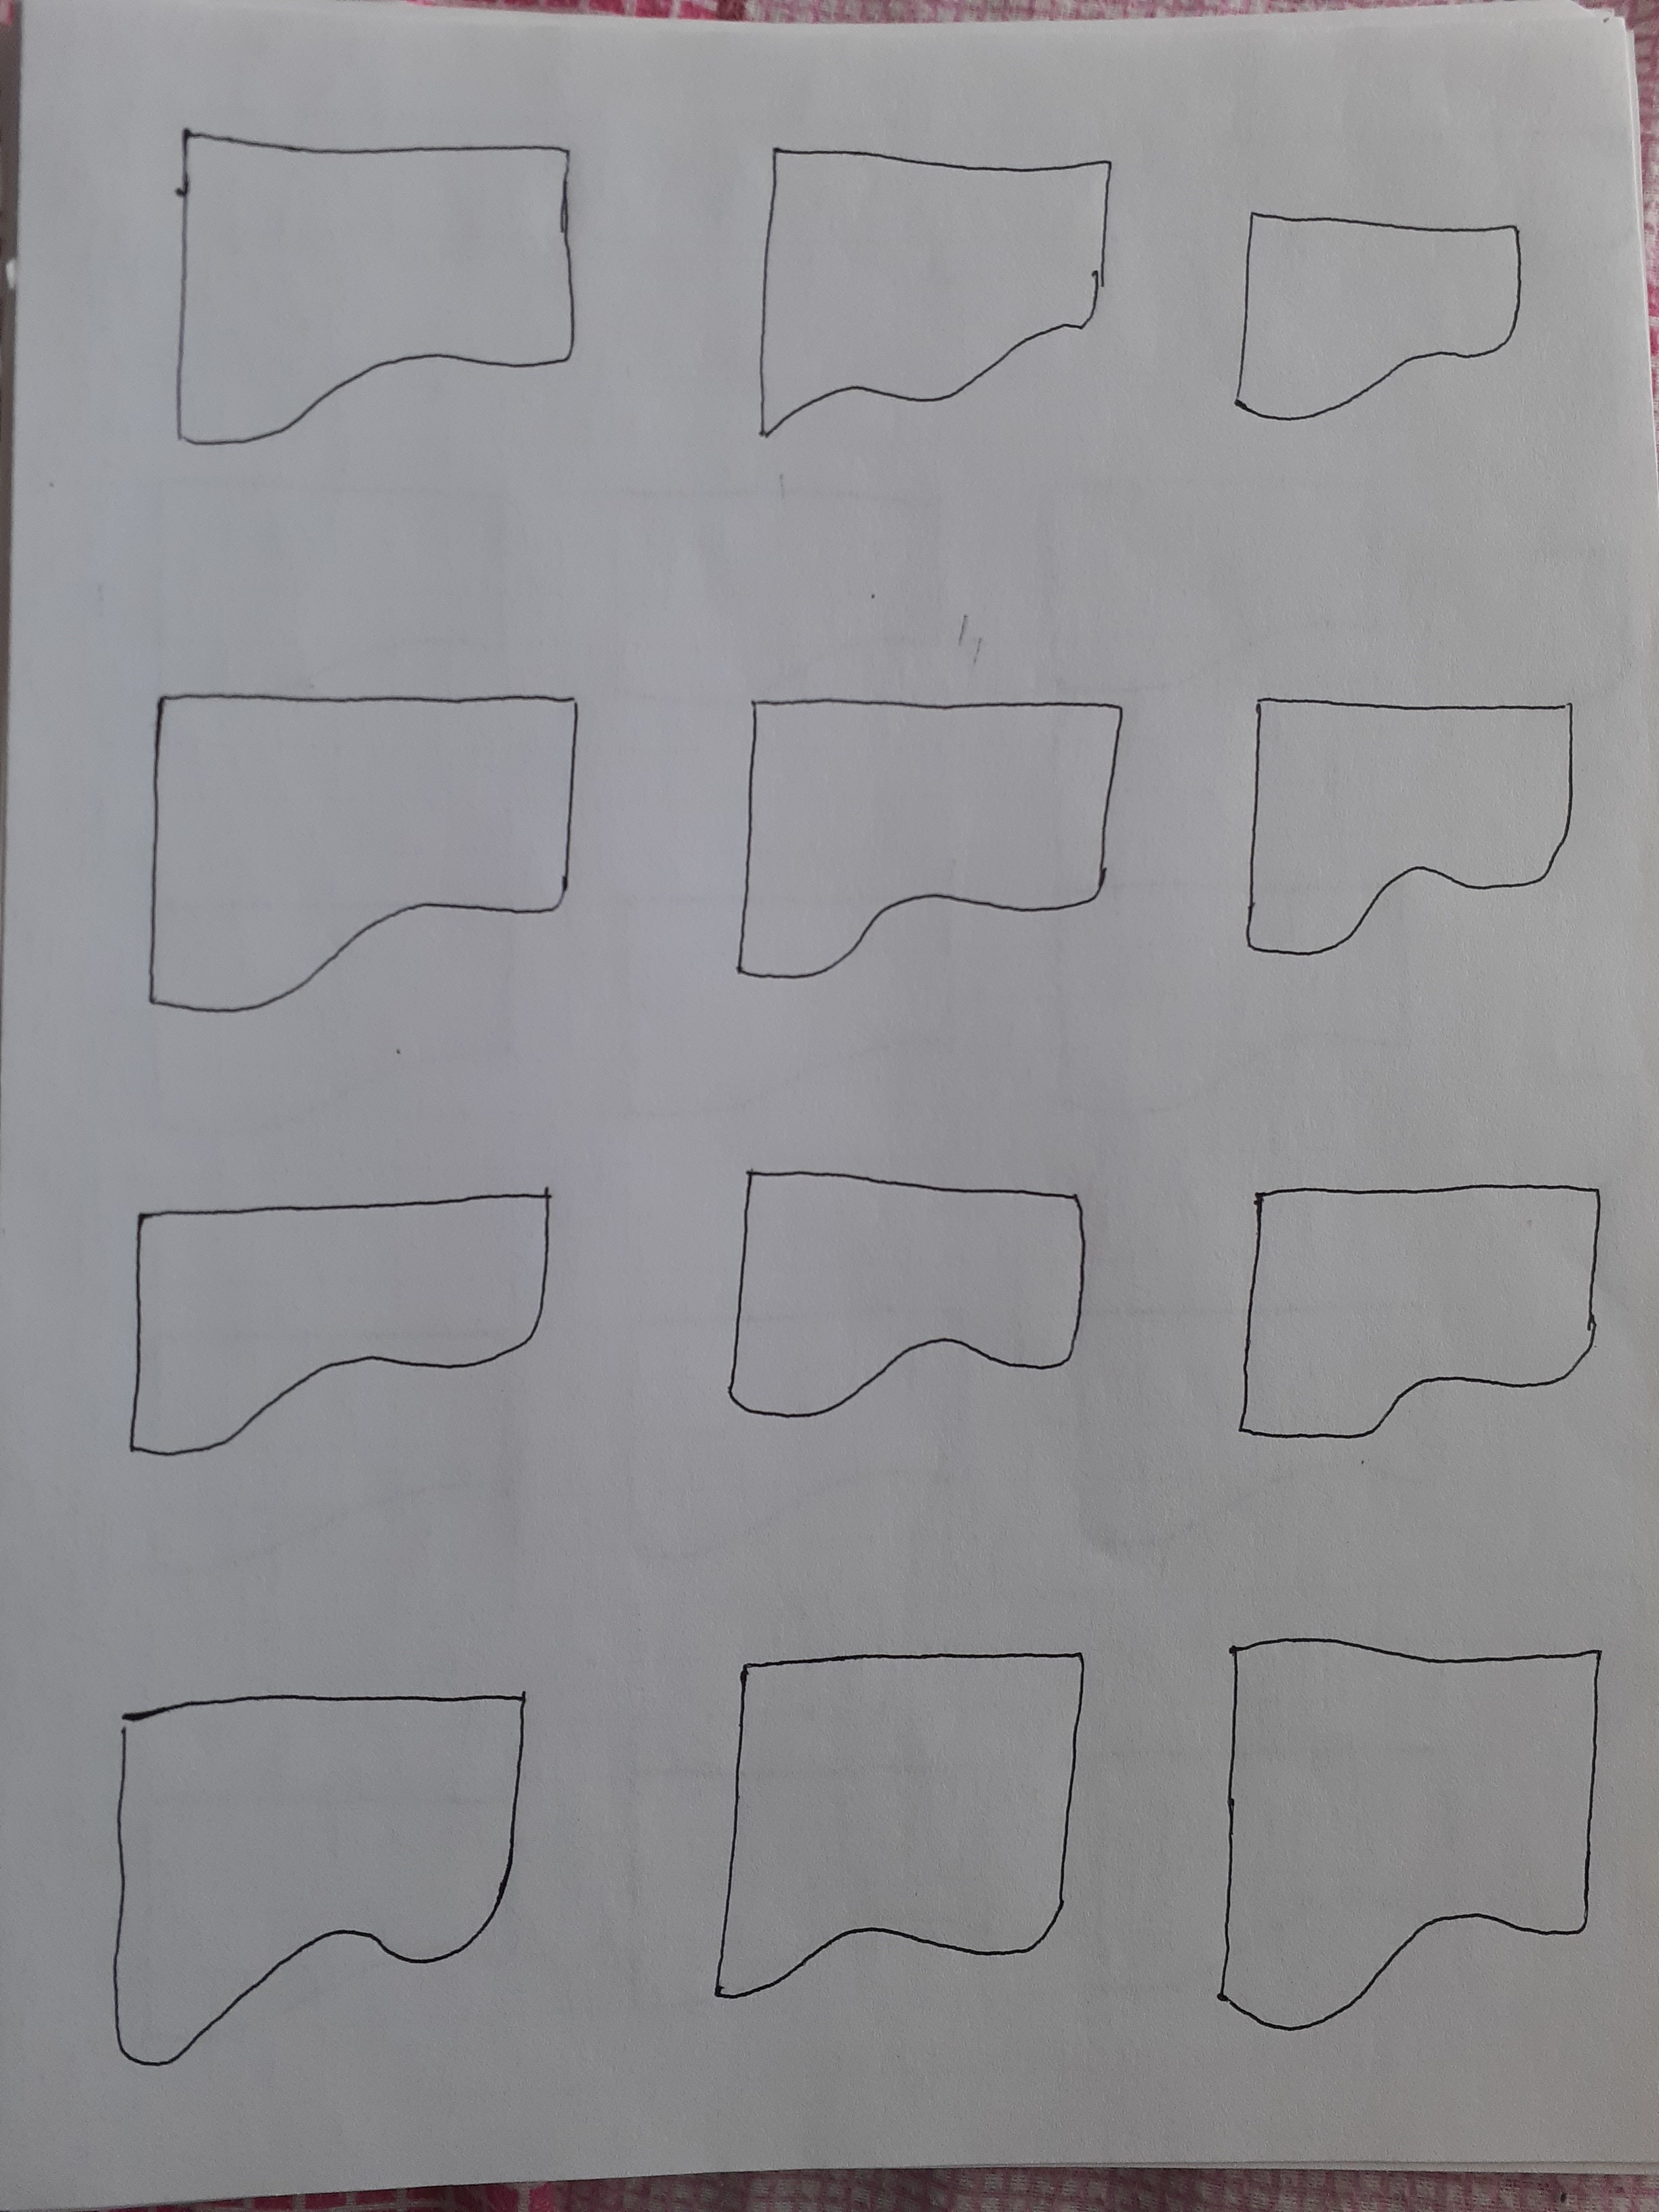print: (82, 1644, 563, 2081), (96, 644, 634, 1035), (1190, 1604, 1621, 2038), (132, 77, 601, 472), (688, 1641, 1105, 2059), (713, 662, 1166, 1038), (82, 1160, 570, 1486), (753, 85, 1122, 479), (709, 1130, 1119, 1475), (1220, 1139, 1628, 1479), (1216, 665, 1610, 974), (1216, 160, 1546, 458)
